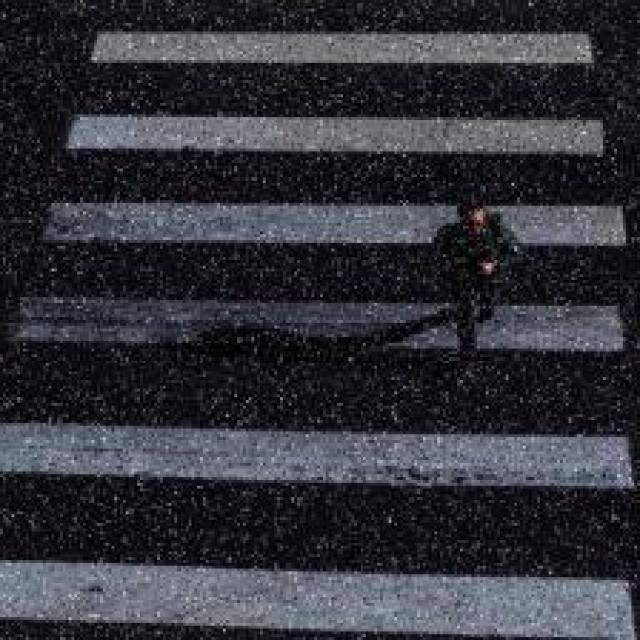walk-crossing: (10, 33, 637, 640)
